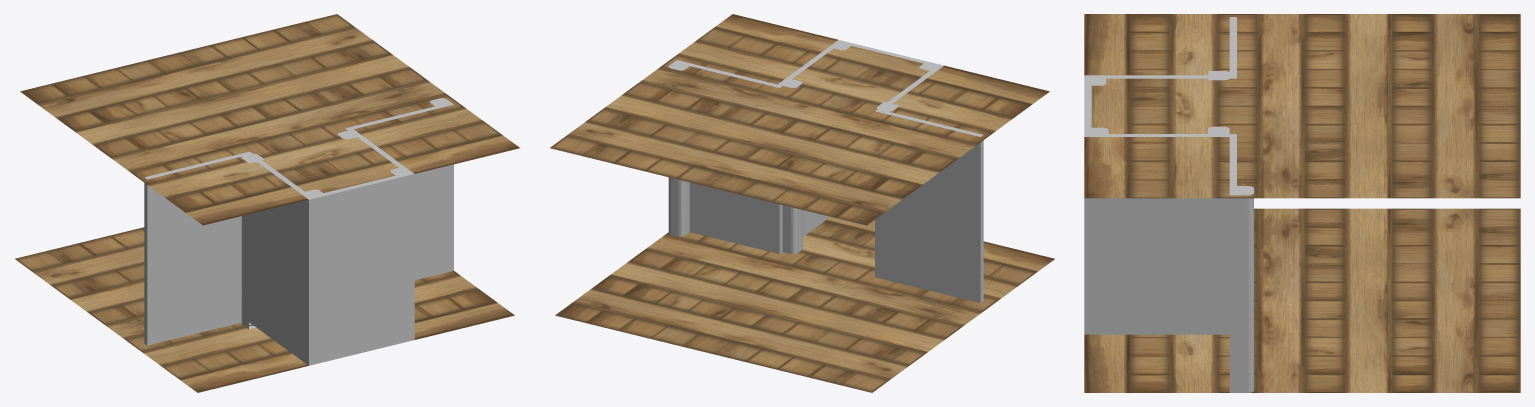
The model's file is SM_PolyRoom.fbx.
The picture shows the model from 3 angles, left to right: view 1: azimuth 30°, elevation 25°; view 2: azimuth 150°, elevation 25°; view 3: azimuth 270°, elevation 25°; orthographic projection. The views are drawn at different scales.
Visible parts, largest first — view 1: SM_MegaCeiling, SM_MegaFloor, Cube_2, Cube_4, Cube_3, Cube_1, RoomColumn_4; view 2: SM_MegaCeiling, SM_MegaFloor, Cube_4, Cube_1, RoomColumn_1, RoomColumn, Cube; view 3: SM_MegaCeiling, SM_MegaFloor, Cube, RoomColumn_1, Cube_1, RoomColumn_2, Cube_2, Cube_4, Cube_3.
Boxes of the visible parts, x1,y1,x2,y2 form: SM_MegaCeiling: (20, 14, 519, 225); SM_MegaFloor: (15, 227, 514, 392); Cube_2: (306, 173, 414, 365); Cube_4: (144, 151, 252, 345); Cube_3: (249, 155, 313, 365); Cube_1: (345, 103, 453, 280); RoomColumn_4: (241, 153, 264, 329); SM_MegaCeiling: (550, 14, 1049, 225); SM_MegaFloor: (555, 217, 1054, 392); Cube_4: (875, 109, 983, 302); Cube_1: (674, 60, 782, 253); RoomColumn_1: (668, 61, 691, 236); RoomColumn: (780, 79, 802, 254); Cube: (778, 40, 843, 236); SM_MegaCeiling: (1084, 14, 1520, 198); SM_MegaFloor: (1084, 208, 1520, 392); Cube: (1084, 134, 1229, 334); RoomColumn_1: (1232, 186, 1253, 392); Cube_1: (1229, 134, 1236, 392); RoomColumn_2: (1086, 127, 1108, 334); Cube_2: (1084, 75, 1091, 334); Cube_4: (1229, 17, 1236, 78); Cube_3: (1086, 75, 1222, 78).
Bounding box in the file's own units: 610 × 300 × 600.
